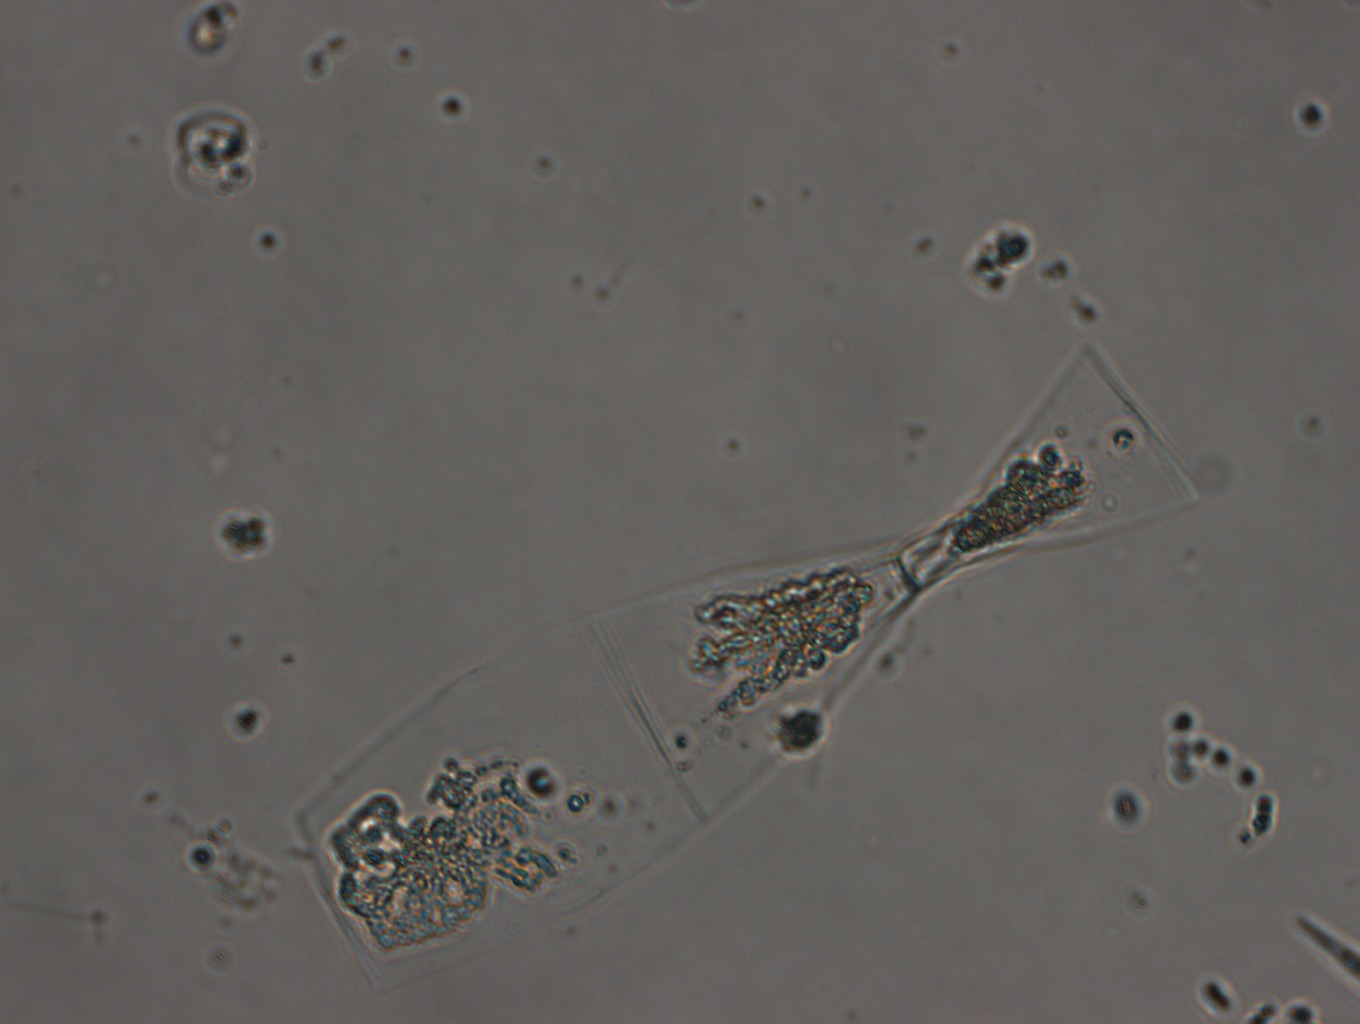helicotheca: (297, 347, 1214, 986)
